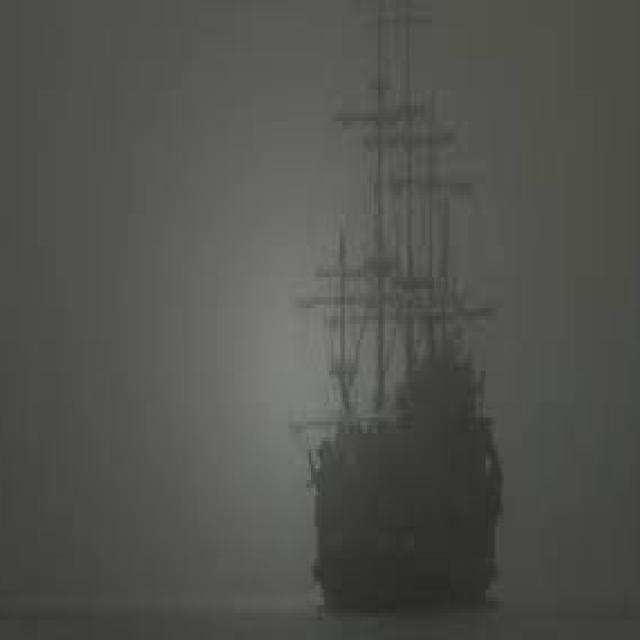fishing boat: (292, 3, 521, 630)
